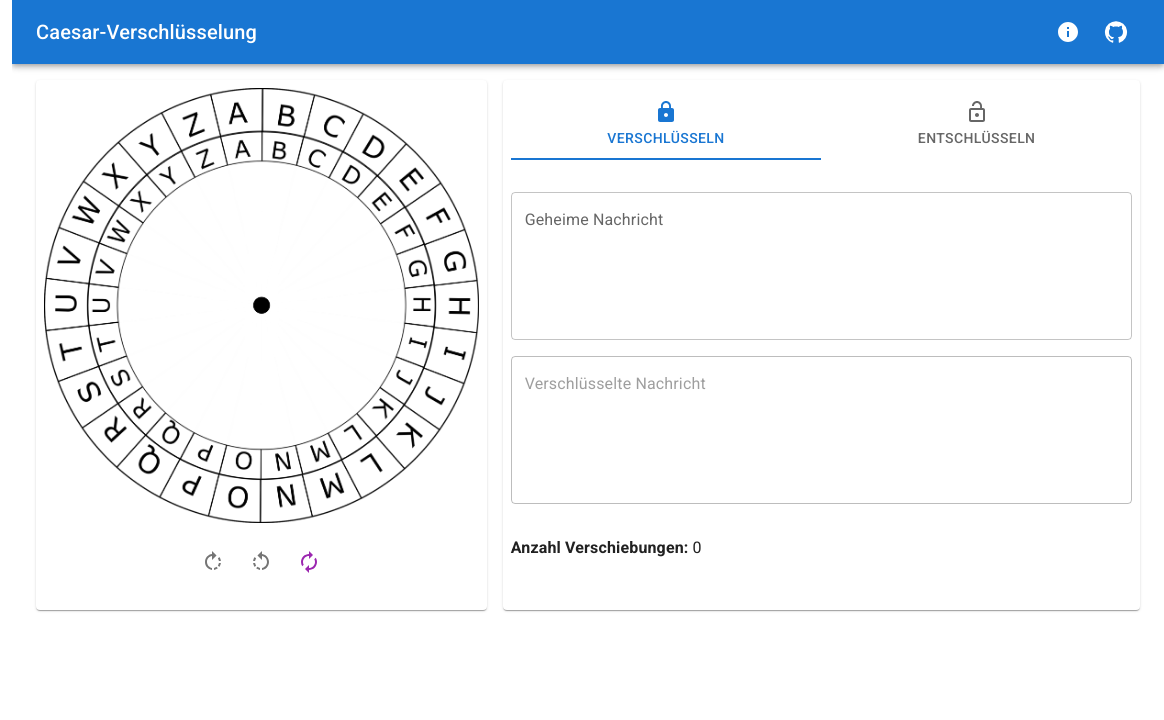
reset cipher disk: number of shifts
Type "ABC" into the text box labelled "Geheime Nachricht" at (821,266), box [525,208,1118,324]
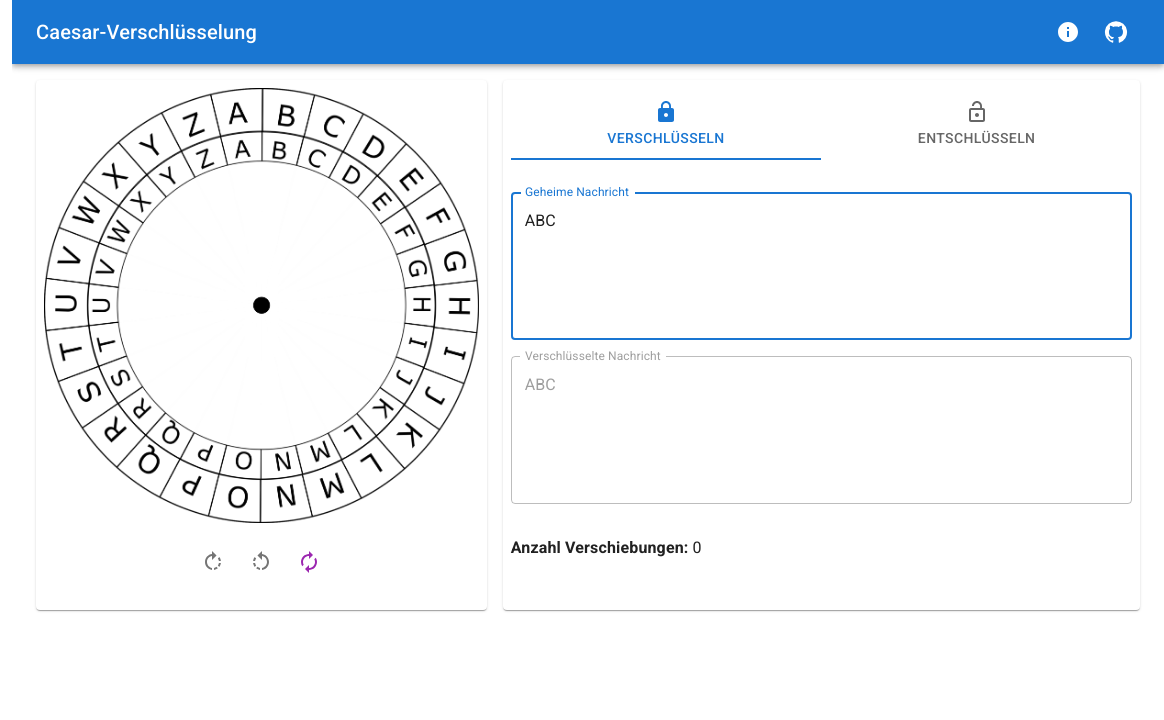
Click the button named "Im Uhrzeigersinn" at (213,562), box [189,538,237,586]
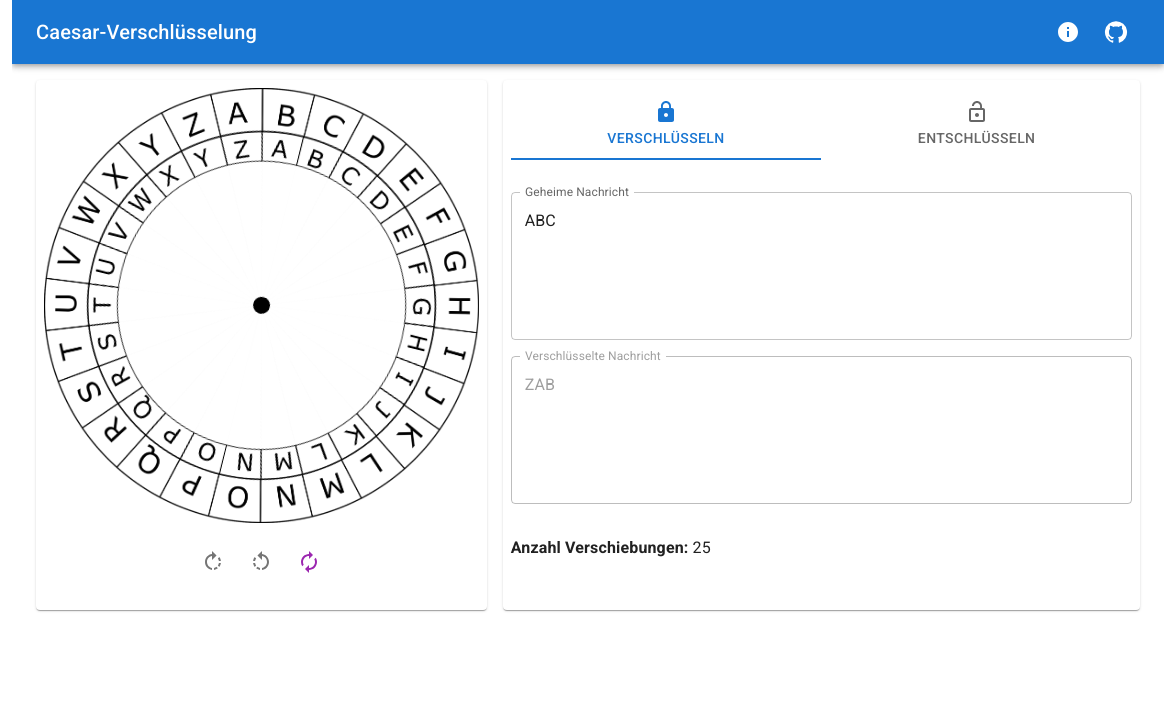
Click the button named "Auf Anfang" at (309,562), box [285,538,333,586]
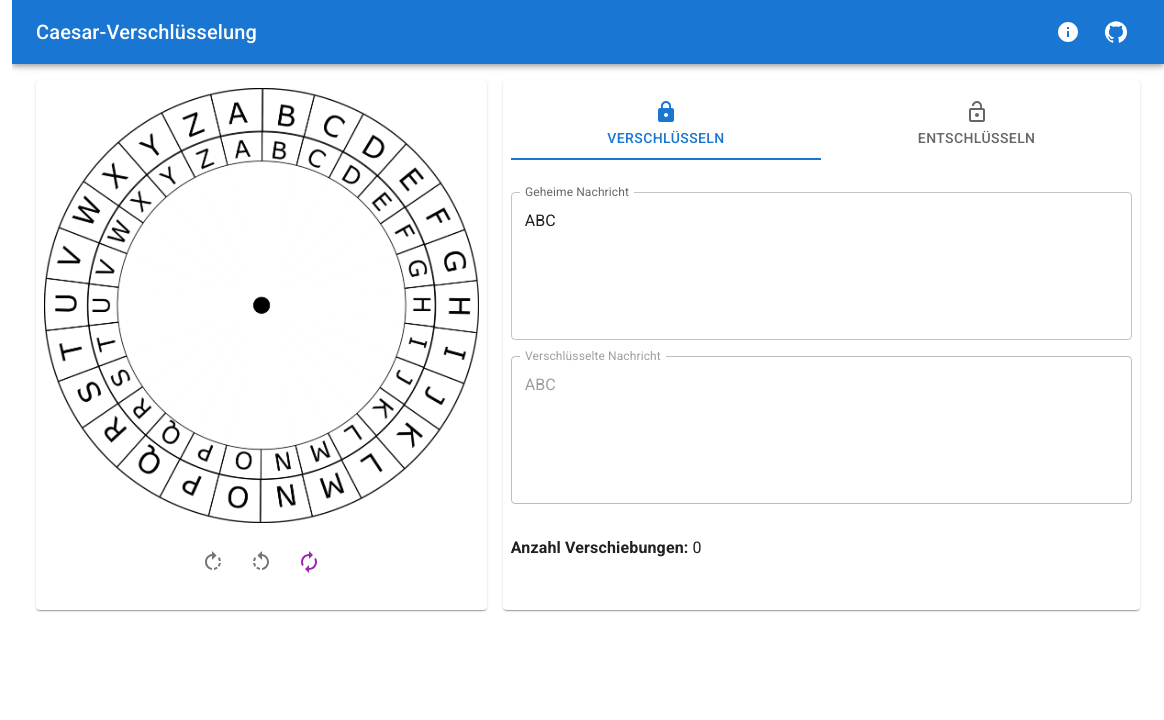
Expected: the element with test id "shift" reads "Anzahl Verschiebungen: 0", [511,538,702,557]
